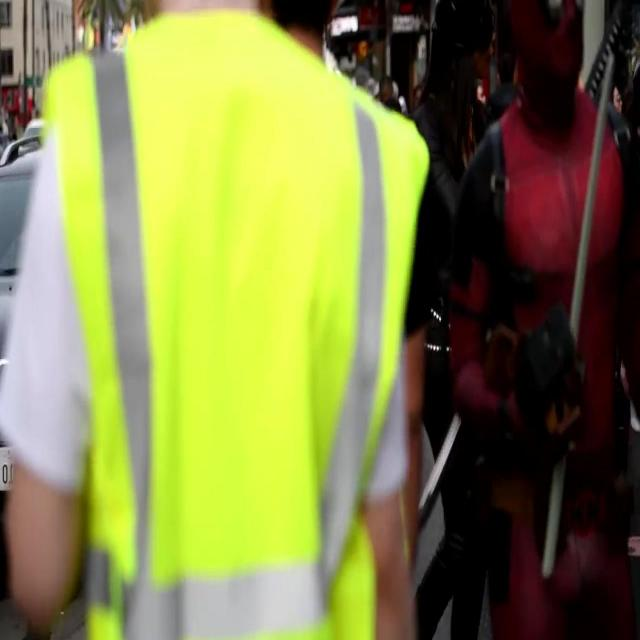Reflective-Jacket: (19, 7, 443, 637), (456, 89, 636, 511)
